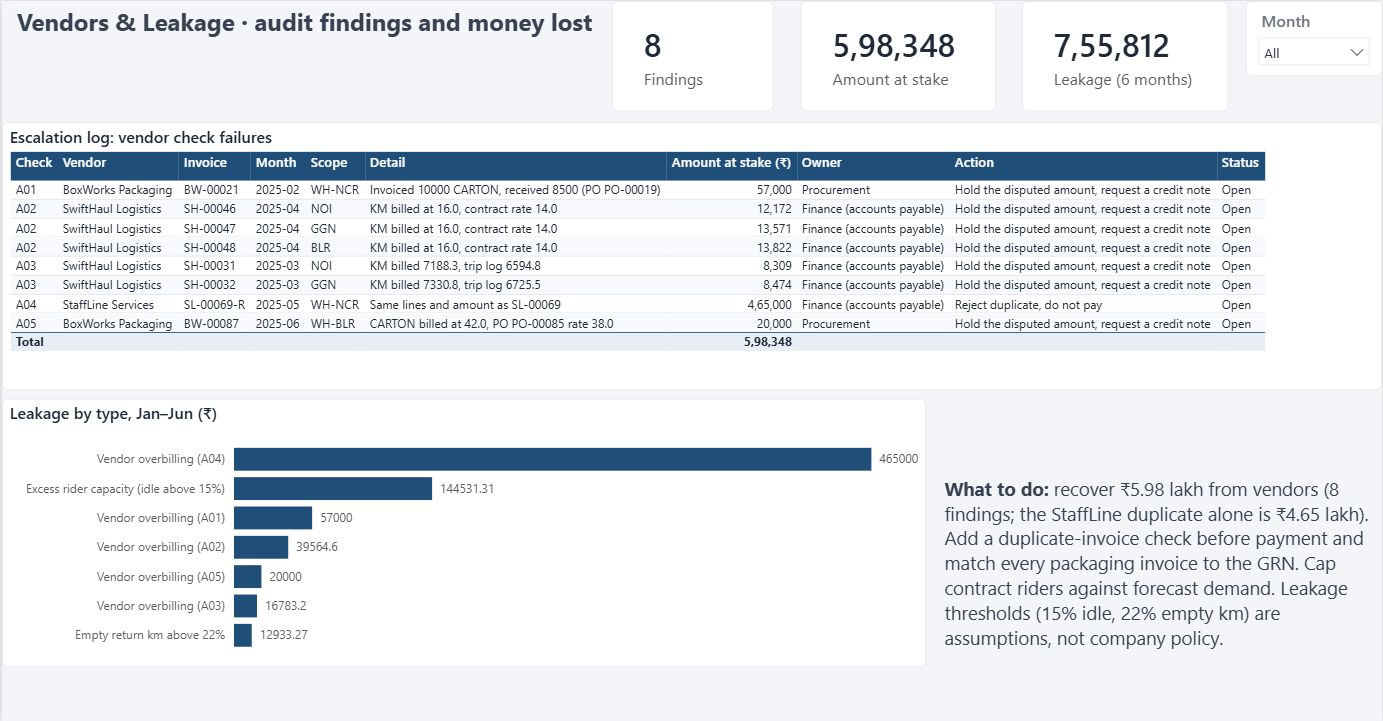

What the dashboard file says about the page in this screenshot:
{"tool":"powerbi","page":{"name":"Vendors & Leakage","canvas":[1380,720],"ordinal":3},"visuals":[{"type":"textbox","box":[10,0,591.2,45],"z":0},{"type":"slicer","fields":{"Values":["Months.Month name"]},"box":[1243.3,0,136.7,75],"z":1},{"type":"cardVisual","fields":{"Data":["_Measures.Findings"]},"box":[610,0,161.7,110],"z":2},{"type":"cardVisual","fields":{"Data":["_Measures.Amount at stake"]},"box":[798.3,0,195,110],"z":3},{"type":"cardVisual","fields":{"Data":["_Measures.Leakage (6 months)"]},"box":[1020,0,206.7,110],"z":4},{"type":"tableEx","title":"Escalation log: vendor check failures","fields":{"Values":["escalation_log.check_code","escalation_log.vendor_name","escalation_log.invoice_no","escalation_log.service_month","escalation_log.scope","escalation_log.detail","Sum(escalation_log.amount_at_stake)","escalation_log.owner","escalation_log.action","escalation_log.status"]},"box":[0,121.7,1380,268.3],"z":5},{"type":"clusteredBarChart","title":"Leakage by type, Jan–Jun (₹)","fields":{"Category":["leakage_summary.leakage_type"],"Y":["Sum(leakage_summary.total_inr)"]},"box":[0,397.1,924.3,268.6],"z":6},{"type":"textbox","box":[937.1,470,442.9,195.7],"z":7}]}

Visuals, with their boxes in screenshot pixels (x1, y1, x2, y2), scaled from the page's 1380x720 canvas onto the 1383x721 screenshot:
textbox: 10, 0, 603, 45
slicer - Months.Month name: 1246, 0, 1382, 75
cardVisual - _Measures.Findings: 611, 0, 773, 110
cardVisual - _Measures.Amount at stake: 800, 0, 995, 110
cardVisual - _Measures.Leakage (6 months): 1022, 0, 1229, 110
"Escalation log: vendor check failures" tableEx: 0, 122, 1382, 391
"Leakage by type, Jan–Jun (₹)" clusteredBarChart: 0, 398, 926, 667
textbox: 939, 471, 1382, 667
